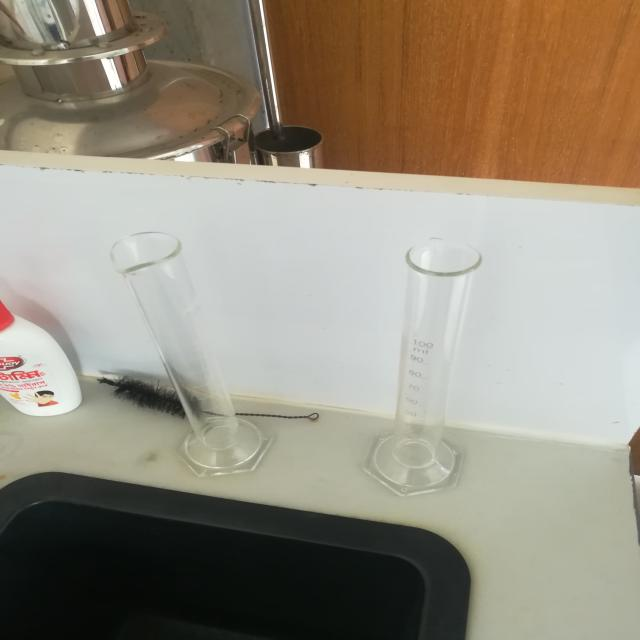Measuring_Cylinder: (93, 194, 301, 499), (345, 207, 509, 521)
